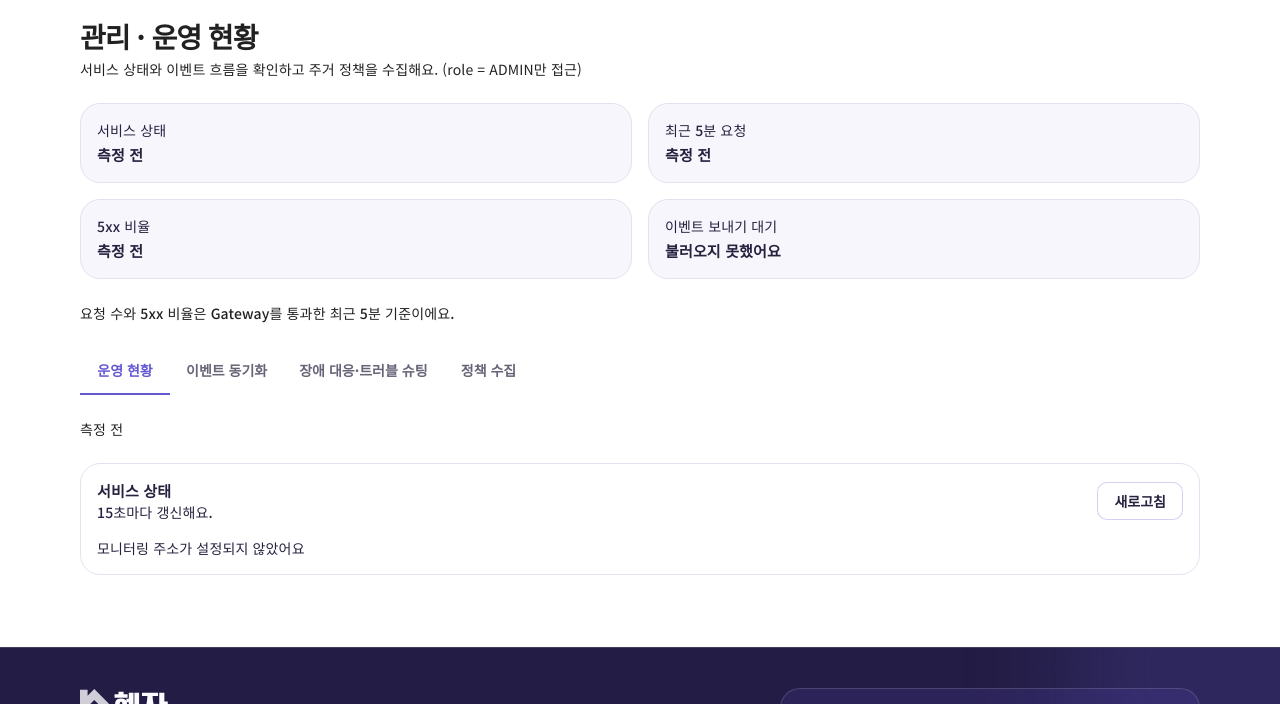
관리자 이벤트 동기화 상태 › 조회가 막히면 오류 문구를 알려 준다
Expected: the heading "관리 · 운영 현황" is shown, top-left (80, 16), bottom-right (257, 56)
Click the tab "이벤트 동기화".
click(227, 371)  # box top-left (170, 347), bottom-right (283, 395)
(page scrolled)
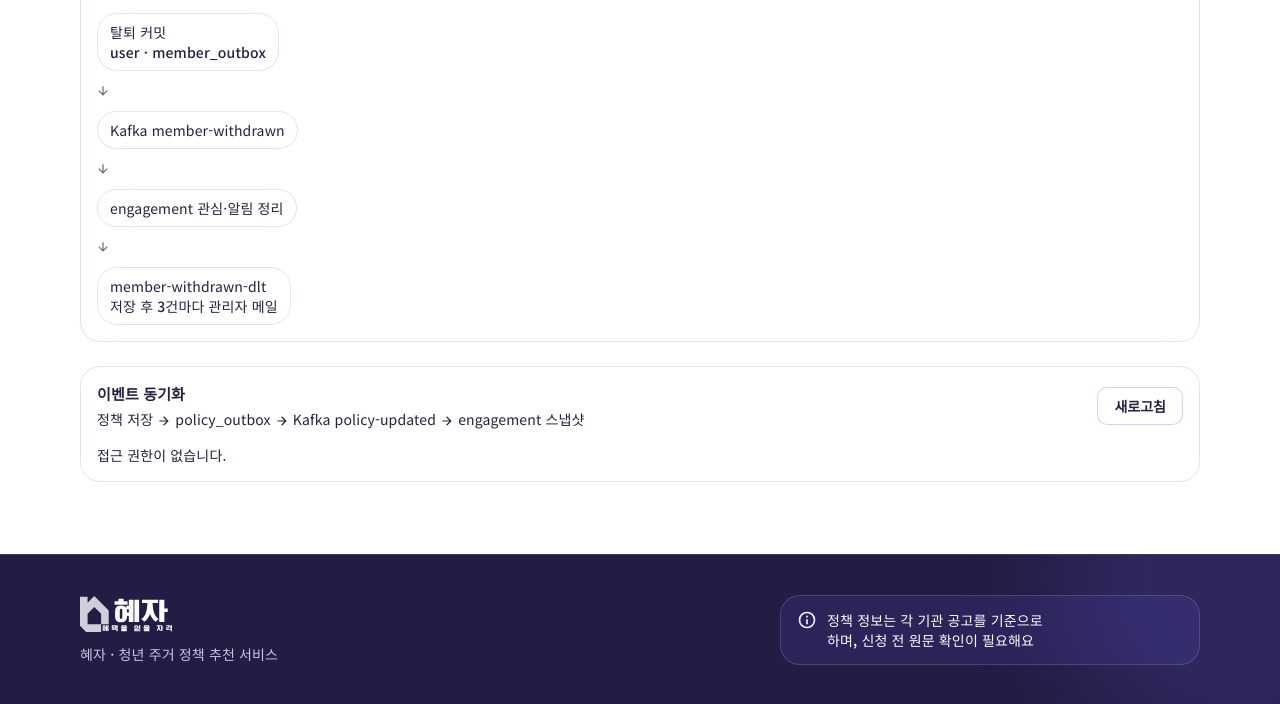
Expected: the text "접근 권한이 없습니다." is shown, top-left (97, 445), bottom-right (226, 465)
